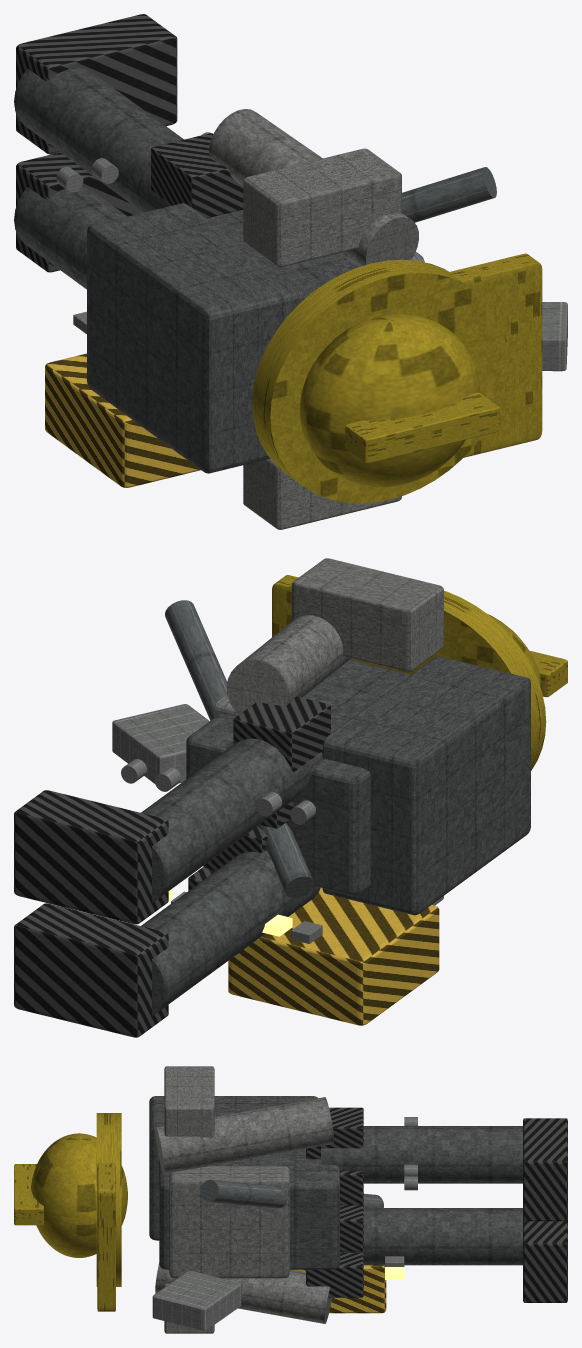
Rendered from c-u01-engineer-lod0.glb.
3 views of the same model, one above another, from view 1: azimuth 30°, elevation 25°; view 2: azimuth 150°, elevation 25°; view 3: azimuth 270°, elevation 25° (orthographic). The views are drawn at different scales.
Visible parts, largest first — view 1: soldier_0_backpack, soldier_0_engineer_hardhat_brim, soldier_0_engineer_hardhat_crown, soldier_0_shoulder_1, soldier_0_leg_1, soldier_0_boot_1, soldier_0_engineer_tool_satchel, soldier_0_engineer_hardhat_front, soldier_0_arm_1, soldier_0_leg_-1, soldier_0_engineer_hardhat_ridge, soldier_0_pouch_3 (+5 smaller); view 2: soldier_0_backpack, soldier_0_engineer_tool_satchel, soldier_0_boot_-1, soldier_0_boot_1, soldier_0_torso, soldier_0_leg_1, soldier_0_leg_-1, soldier_0_shoulder_1, soldier_0_arm_1, soldier_0_engineer_hardhat_brim, soldier_0_engineer_tool_handle, soldier_0_engineer_wrench_head (+4 smaller); view 3: soldier_0_chest, soldier_0_leg_1, soldier_0_leg_-1, soldier_0_arm_1, soldier_0_torso, soldier_0_engineer_hardhat_crown, soldier_0_boot_1, soldier_0_engineer_wrench_head, soldier_0_arm_-1, soldier_0_boot_-1, soldier_0_shoulder_1, soldier_0_backpack (+10 smaller).
Part boxes in pixels (x1,y1,x2,y2): soldier_0_backpack: (87, 203, 304, 473); soldier_0_engineer_hardhat_brim: (252, 259, 508, 503); soldier_0_engineer_hardhat_crown: (299, 314, 479, 487); soldier_0_shoulder_1: (243, 148, 401, 267); soldier_0_leg_1: (14, 68, 183, 212); soldier_0_boot_1: (16, 14, 177, 154); soldier_0_engineer_tool_satchel: (45, 353, 200, 487); soldier_0_engineer_hardhat_front: (449, 253, 542, 457); soldier_0_arm_1: (209, 109, 418, 266); soldier_0_leg_-1: (14, 187, 127, 289); soldier_0_engineer_hardhat_ridge: (345, 392, 499, 463); soldier_0_pouch_3: (151, 133, 243, 218); soldier_0_backpack: (322, 656, 530, 915); soldier_0_engineer_tool_satchel: (228, 887, 439, 1025); soldier_0_boot_-1: (14, 903, 168, 1037); soldier_0_boot_1: (14, 790, 168, 924); soldier_0_torso: (186, 659, 410, 895); soldier_0_leg_1: (141, 738, 322, 902); soldier_0_leg_-1: (141, 851, 320, 1015); soldier_0_shoulder_1: (291, 558, 443, 671); soldier_0_arm_1: (226, 615, 350, 714); soldier_0_engineer_hardhat_brim: (350, 590, 546, 770); soldier_0_engineer_tool_handle: (165, 600, 314, 897); soldier_0_engineer_wrench_head: (112, 704, 209, 783); soldier_0_chest: (169, 1166, 289, 1278); soldier_0_leg_1: (321, 1126, 522, 1183); soldier_0_leg_-1: (340, 1208, 522, 1265); soldier_0_arm_1: (155, 1097, 333, 1173); soldier_0_torso: (159, 1149, 339, 1269); soldier_0_engineer_hardhat_crown: (31, 1133, 127, 1257); soldier_0_boot_1: (523, 1118, 567, 1221); soldier_0_engineer_wrench_head: (152, 1270, 241, 1330); soldier_0_arm_-1: (155, 1262, 331, 1323); soldier_0_boot_-1: (523, 1219, 567, 1302); soldier_0_shoulder_1: (164, 1066, 214, 1137); soldier_0_backpack: (149, 1096, 317, 1240).
Size of what is drawn, in the model's own units: 1.27 by 1 by 2.21.
8 materials, 8 textured.
